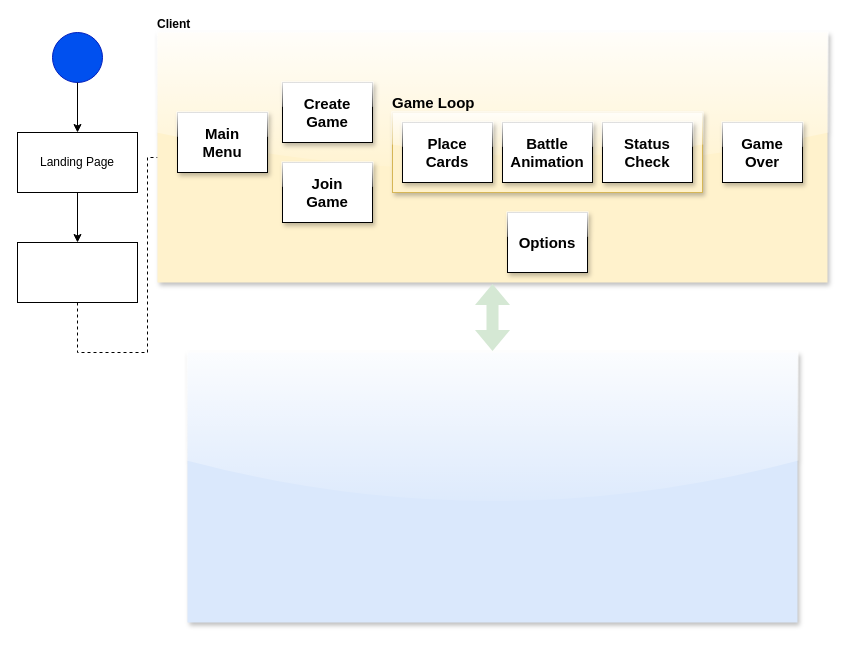
Some shapes in this 851 by 646 pixel diagram are drawn without their labels. Each missing label, with the centre of its shape:
Elementum Page: (x=77, y=272)
Server: (x=493, y=488)
Start: (x=77, y=57)
